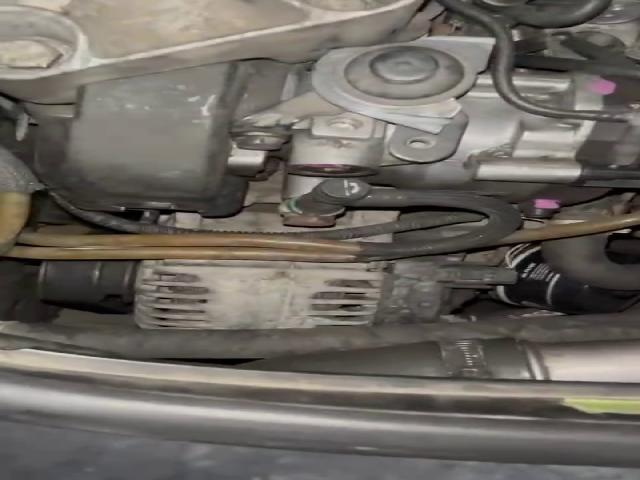alternator: (135, 261, 386, 329)
high_pressure_pump: (287, 74, 638, 215), (512, 69, 614, 109)
